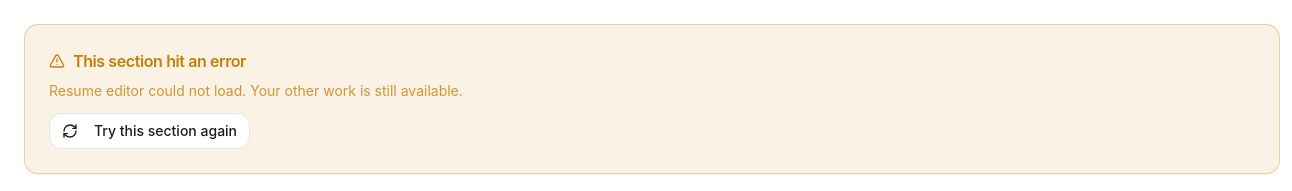
SectionBoundary › contains a named section failure, reports context, and remounts on retry
The width and height of the screenshot is (1292, 191).
Expected: the message shows "This section hit an error", 73,51 -> 246,71
Click the button "Try this section again": (150, 131) 49,113 -> 250,149
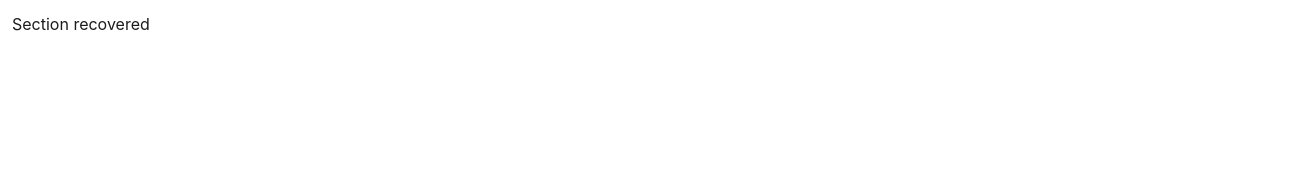
Expected: the text "Section recovered" is shown, 12,14 -> 150,34
Expected: the message is gone
